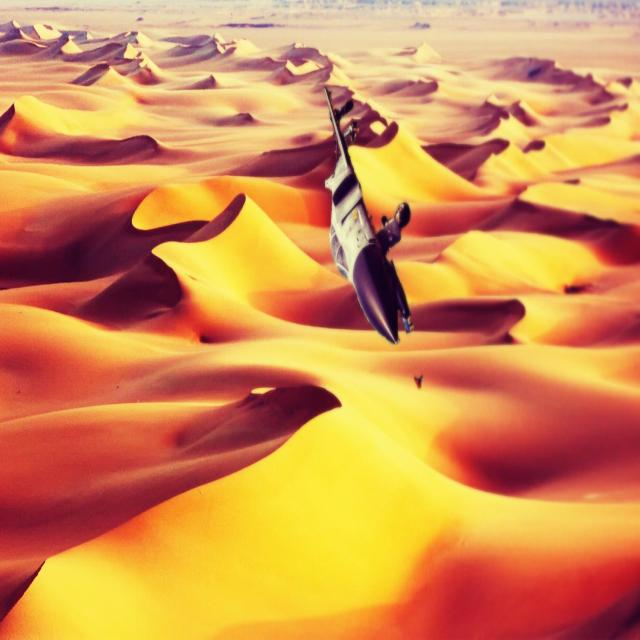airplane: (322, 84, 414, 345)
